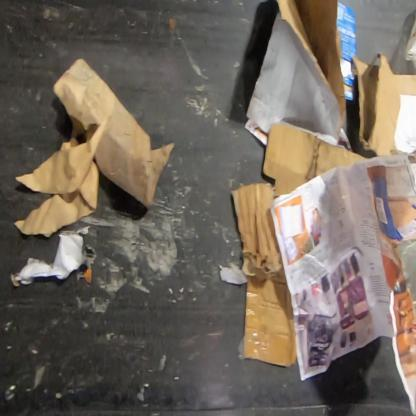cardboard: (218, 123, 370, 369), (13, 59, 177, 238), (244, 0, 358, 153), (351, 50, 415, 164)
